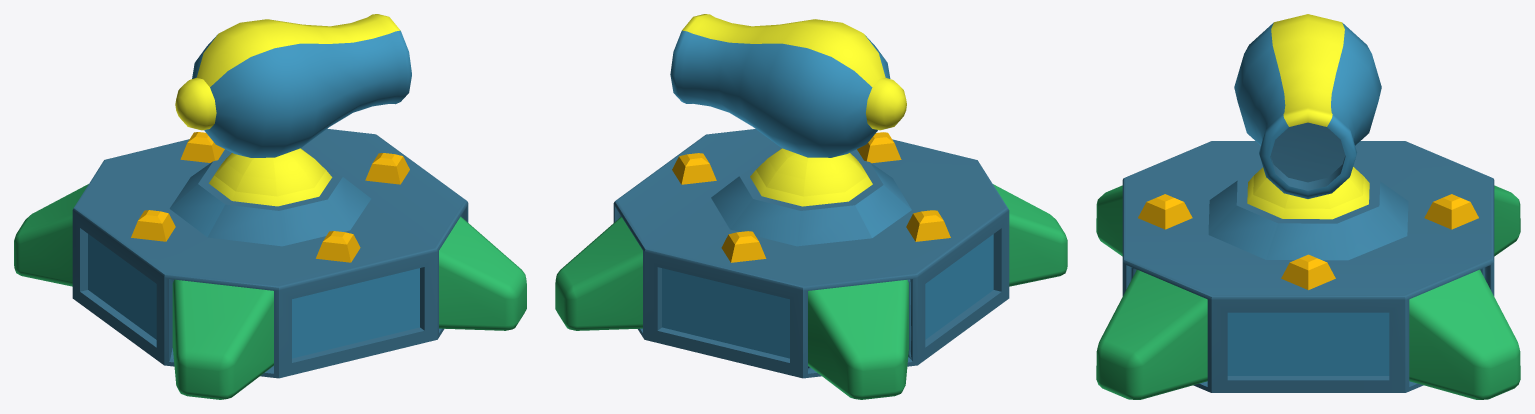
The model's file is island3-connanball3.fbx.
3 renders of one model, left to right at view 1: azimuth 30°, elevation 25°; view 2: azimuth 150°, elevation 25°; view 3: azimuth 270°, elevation 25°, orthographic. The views are drawn at different scales.
Visible parts, largest first — view 1: islnd3-cannonball3, island3-cannonball3.01; view 2: islnd3-cannonball3, island3-cannonball3.01; view 3: islnd3-cannonball3, island3-cannonball3.01.
Boxes of the visible parts, bbox=[...] form: islnd3-cannonball3: bbox=[14, 128, 526, 399]; island3-cannonball3.01: bbox=[175, 14, 411, 206]; islnd3-cannonball3: bbox=[555, 129, 1067, 399]; island3-cannonball3.01: bbox=[670, 14, 906, 206]; islnd3-cannonball3: bbox=[1096, 141, 1520, 399]; island3-cannonball3.01: bbox=[1234, 14, 1381, 219].
Size of the model in its own units: 2.98 by 2.23 by 2.98.
Materials: 1 (1 with a texture image).
